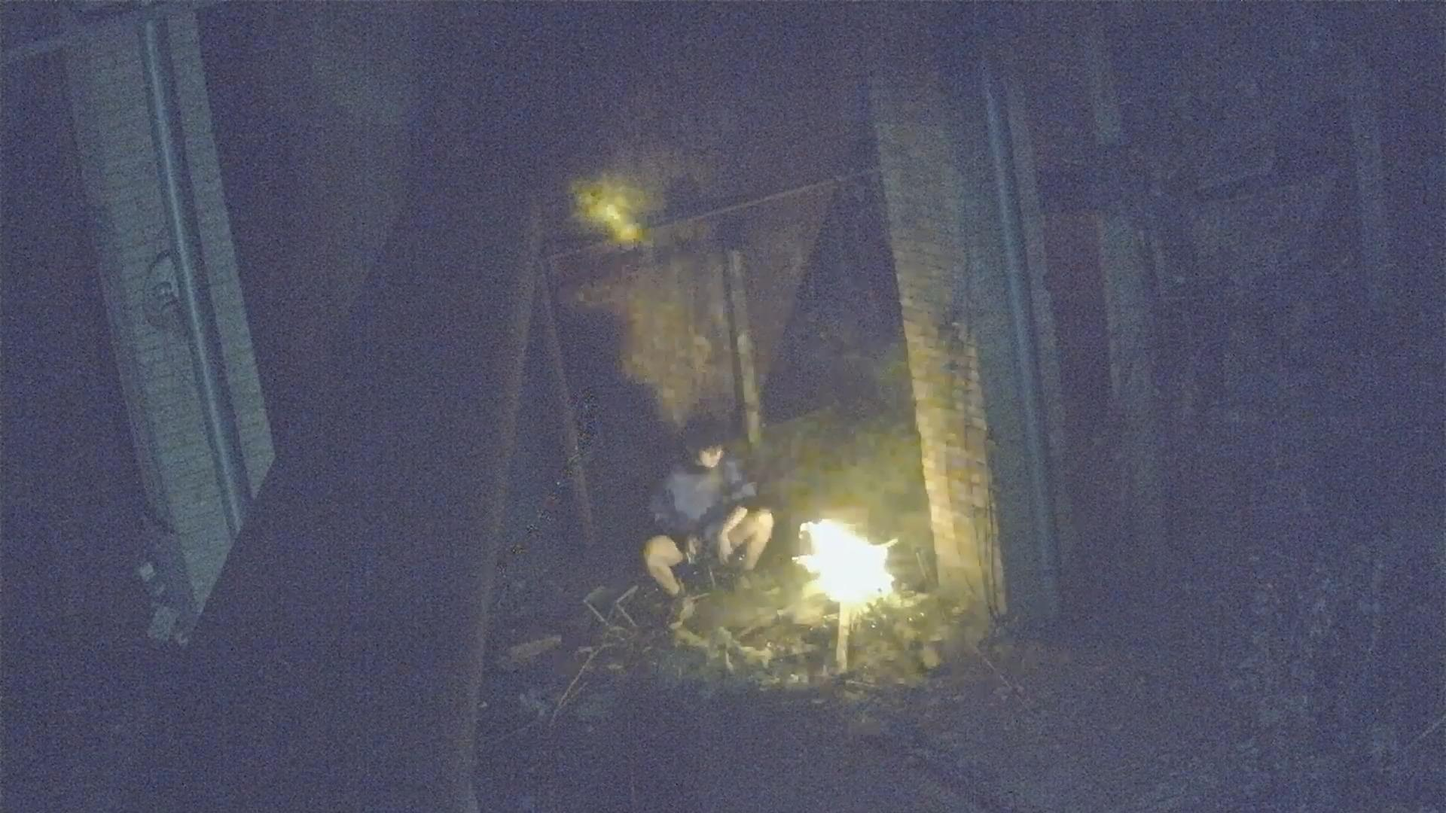fire: (801, 519, 893, 606)
